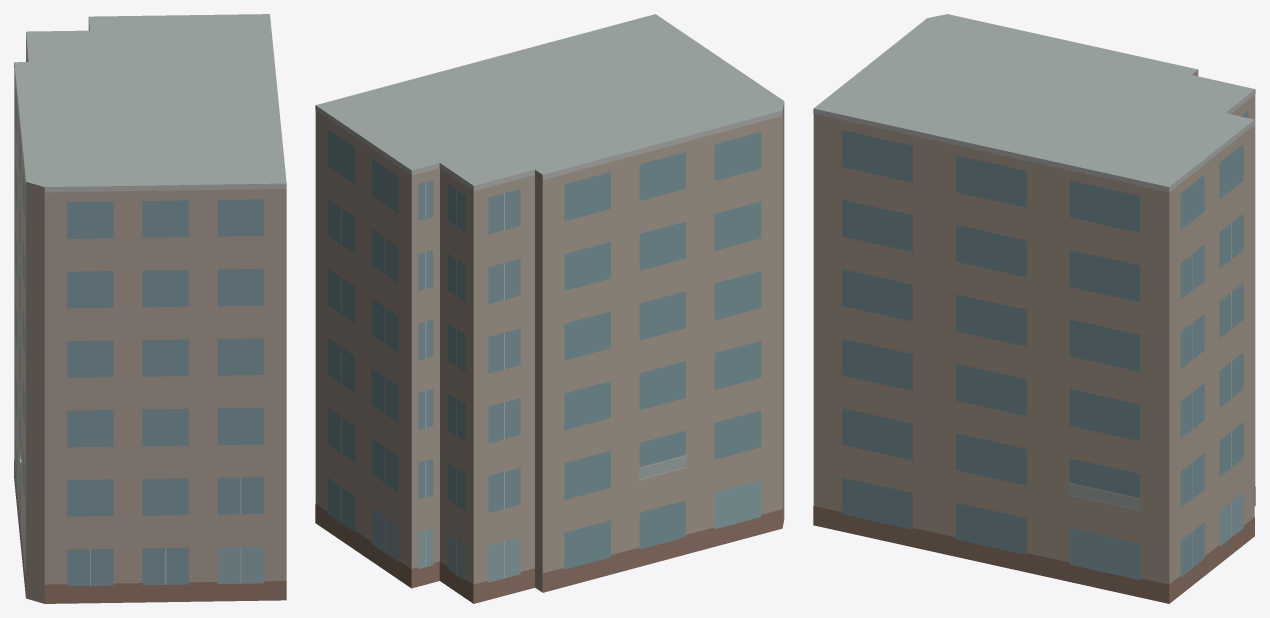
Rendered from survey-upis-32529863.glb.
3 renders of one model, left to right at view 1: azimuth 30°, elevation 25°; view 2: azimuth 150°, elevation 25°; view 3: azimuth 270°, elevation 25°, orthographic.
Parts seen in each view (by area): view 1: survey-upis-32529863.tmp; view 2: survey-upis-32529863.tmp; view 3: survey-upis-32529863.tmp.
Boxes of the visible parts, x1,y1,x2,y2 form: survey-upis-32529863.tmp: (14,14,286,603); survey-upis-32529863.tmp: (315,14,784,603); survey-upis-32529863.tmp: (813,14,1255,603).
Size of the model in its own units: 17.2 by 19.3 by 18.56.
